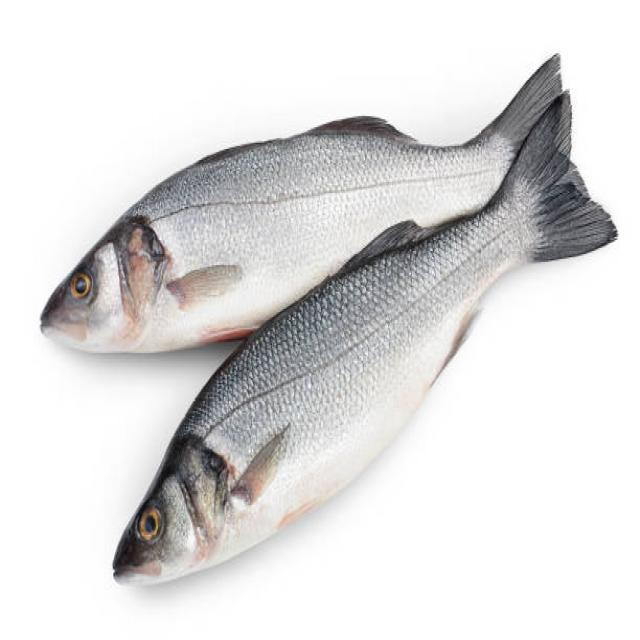Healthy Fish: (38, 51, 608, 585)
